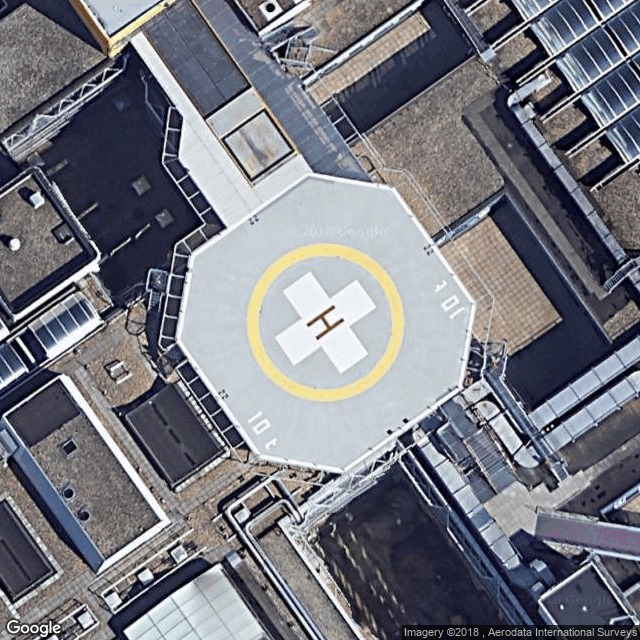heliport: (299, 297, 345, 343)
